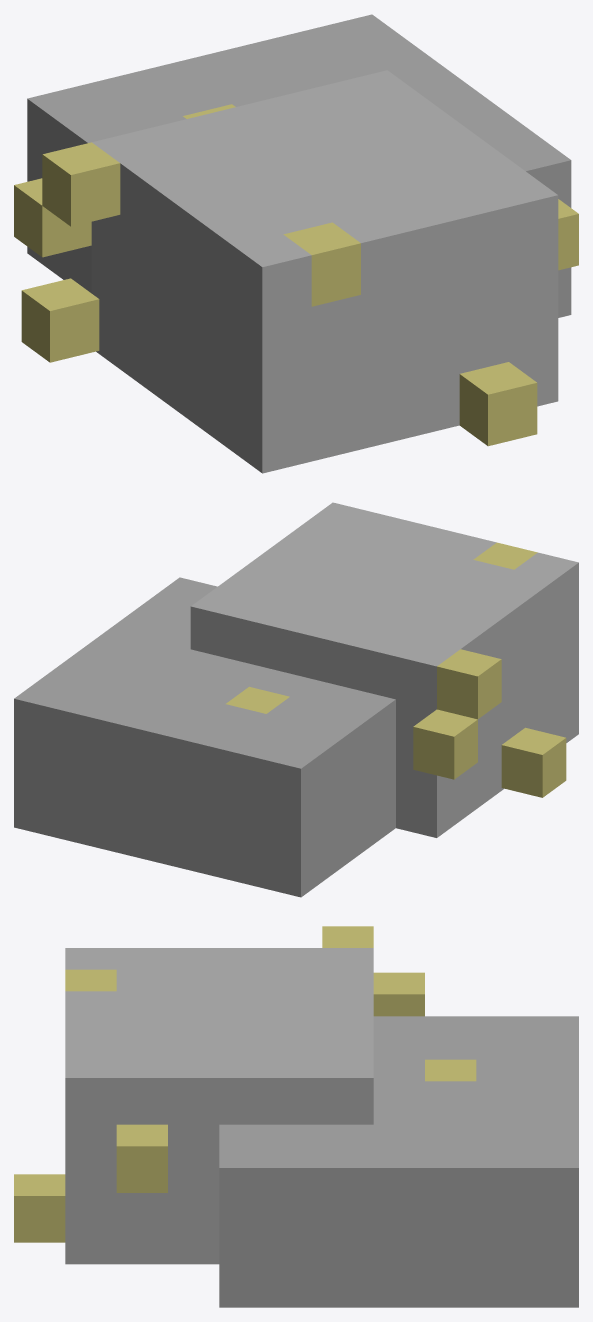
File: azufre_02.glb
3 renders of one model, top to bottom at view 1: azimuth 30°, elevation 25°; view 2: azimuth 150°, elevation 25°; view 3: azimuth 270°, elevation 25°, orthographic. The views are drawn at different scales.
Visible parts, largest first — view 1: azufre_02; view 2: azufre_02; view 3: azufre_02.
Part boxes in pixels (x1,y1,x2,y2): azufre_02: (14,14,578,473); azufre_02: (14,502,578,897); azufre_02: (14,926,578,1307).
Size of the model in its own units: 1 by 0.4 by 1.1.
